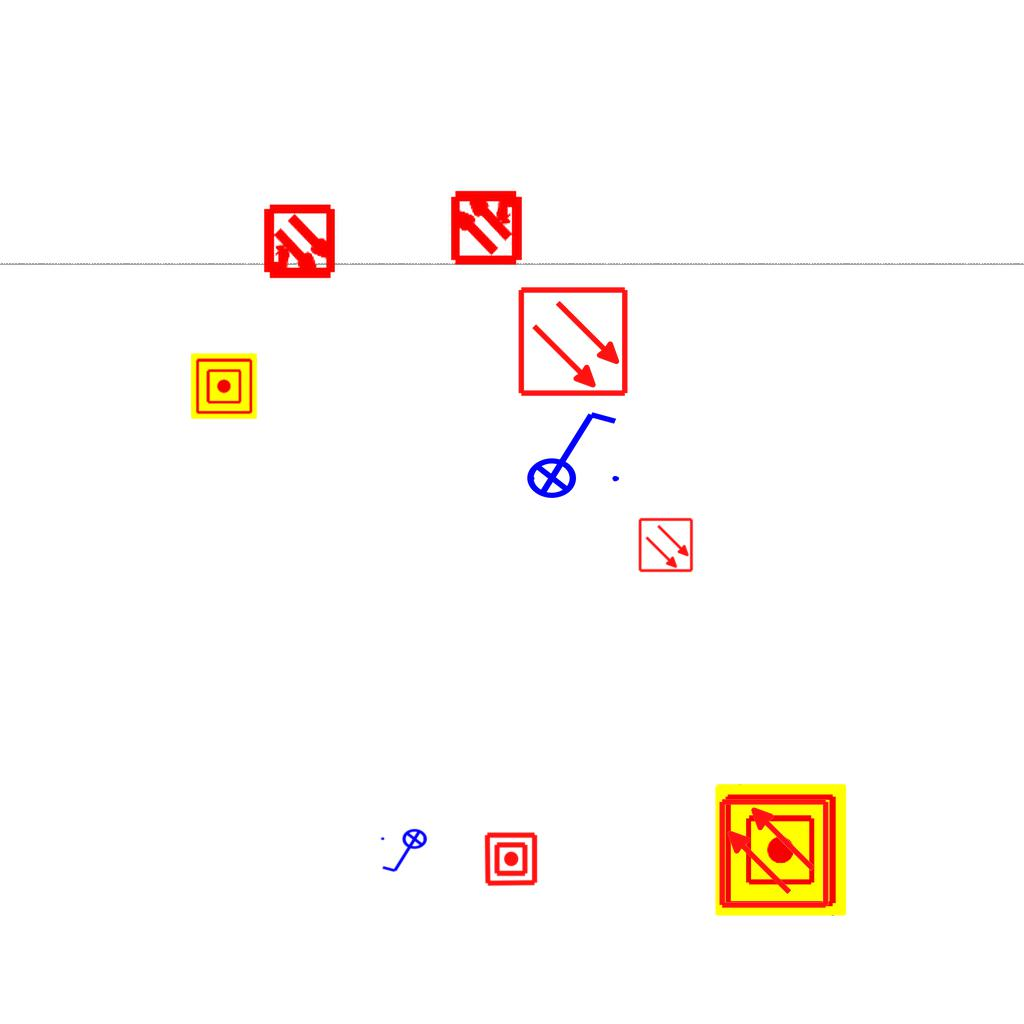Ausschalter_beleuchtet: (513, 404, 625, 500), (378, 828, 434, 876)
NAM-Nichtautomatischer_Melder: (715, 784, 847, 916), (191, 353, 257, 419), (483, 831, 539, 887)
OT_Multisensormelder_(Kombination_RMO_WMD): (430, 169, 543, 282), (243, 187, 356, 300)
RMO_Rauchmelder_optischer: (517, 285, 630, 398), (717, 797, 830, 910), (638, 517, 694, 573)
